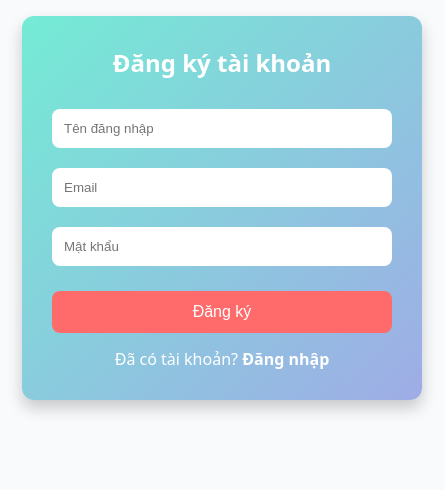
Scenario: Register page › submits registration and navigates after success
Type "User" into the field with placeholder "Tên đăng nhập" at {"x": 222, "y": 128}, box [52, 109, 392, 148]
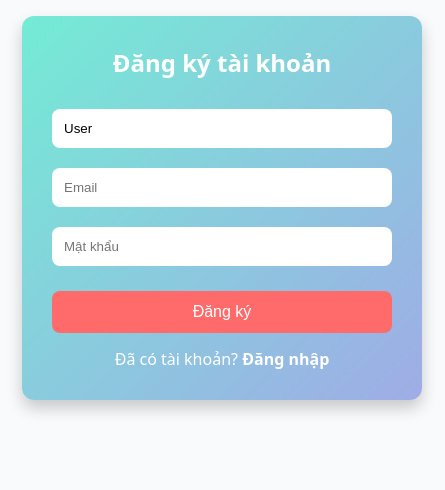
Type "a@b.com" into the field with placeholder "Email" at {"x": 222, "y": 188}, box [52, 168, 392, 207]
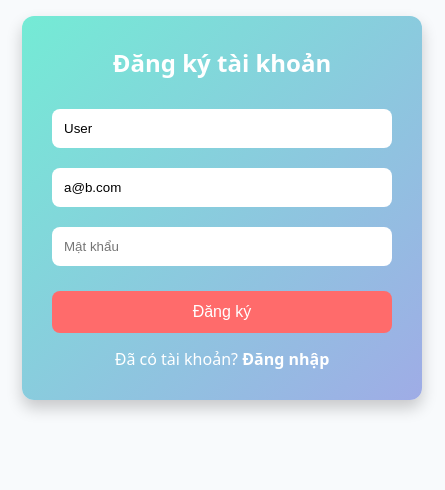
Type "123456" into the password field with placeholder "Mật khẩu" at {"x": 222, "y": 246}, box [52, 227, 392, 266]
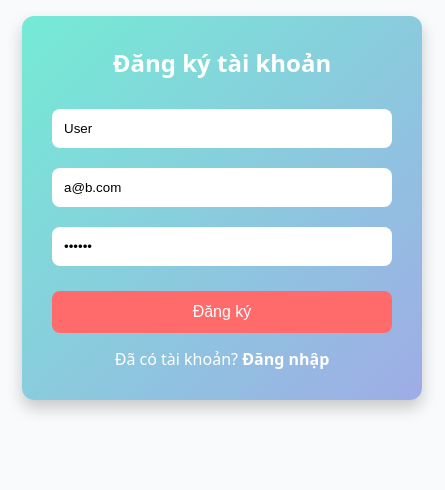
Click the button "Đăng ký" at {"x": 222, "y": 312}, box [52, 291, 392, 333]
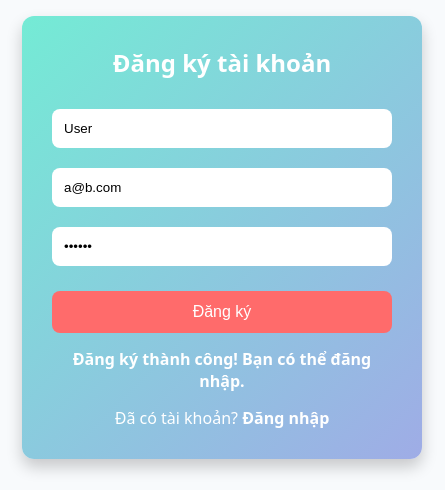
Now the text "Đăng ký thành công! Bạn có thể đăng nhập." is shown, box [52, 348, 392, 392]
